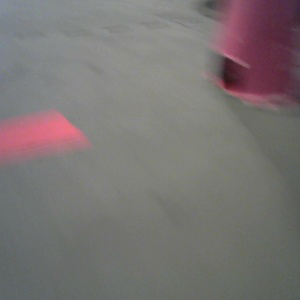right: (206, 1, 300, 109)
